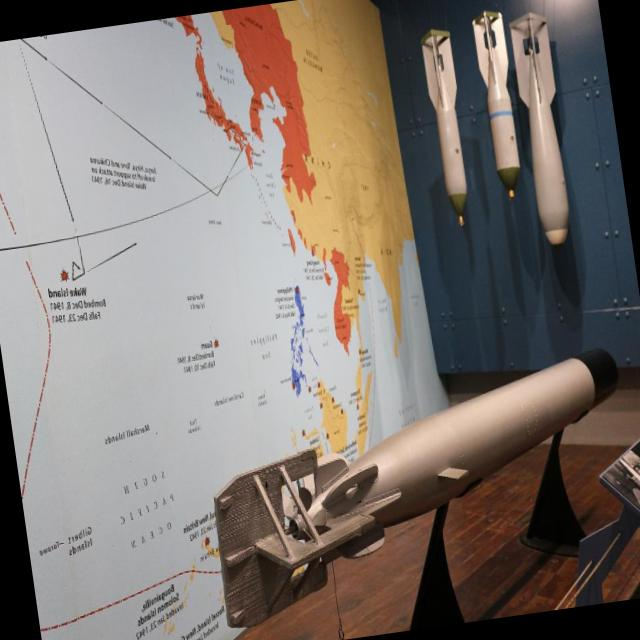rocket: (210, 333, 640, 607), (509, 3, 581, 245), (417, 23, 477, 225), (469, 4, 523, 197)
